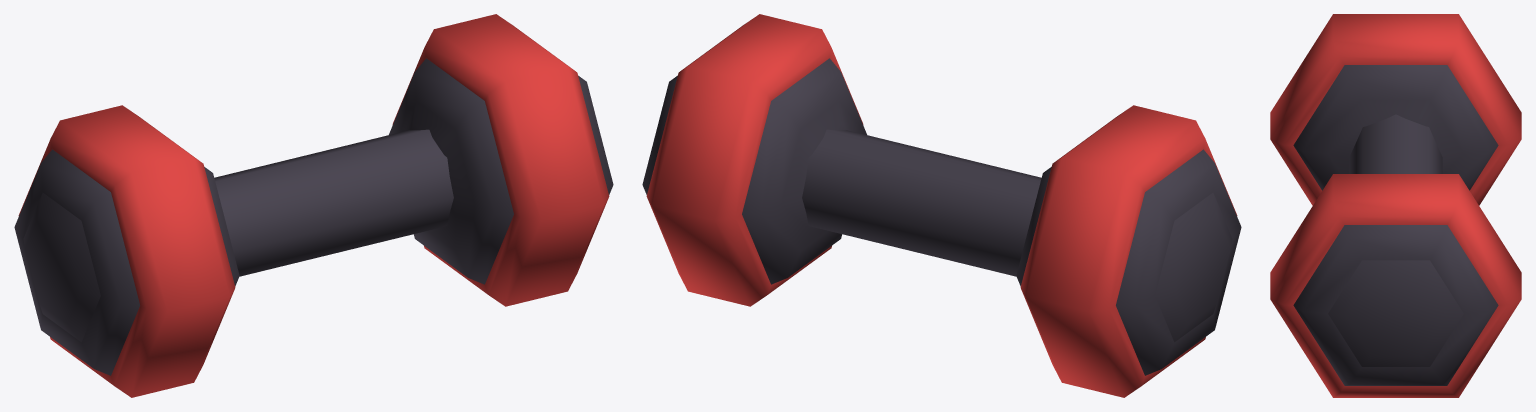
Rendered from Dumbbell_v01.fbx.
3 renders of one model, left to right at view 1: azimuth 30°, elevation 25°; view 2: azimuth 150°, elevation 25°; view 3: azimuth 270°, elevation 25°, orthographic. The views are drawn at different scales.
Parts seen in each view (by area): view 1: Dumbbell_v01; view 2: Dumbbell_v01; view 3: Dumbbell_v01.
Part boxes in pixels (left/top/right/bottom): Dumbbell_v01: left=14, top=14, right=613, bottom=397; Dumbbell_v01: left=642, top=14, right=1241, bottom=397; Dumbbell_v01: left=1270, top=14, right=1521, bottom=397.
Bounding box in the file's own units: 0.4048 × 0.1666 × 0.1924.
Materials: 1 (1 with a texture image).
